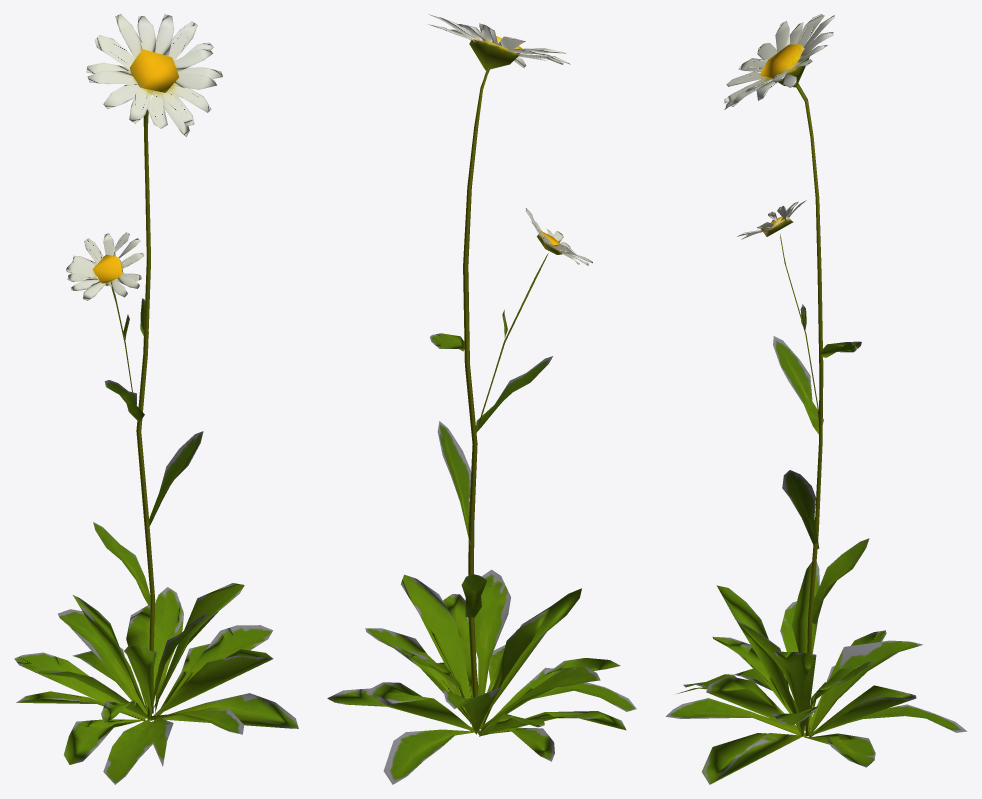
File: OxeyeDaisyClean.glb
3 renders of one model, left to right at view 1: azimuth 30°, elevation 25°; view 2: azimuth 150°, elevation 25°; view 3: azimuth 270°, elevation 25°, orthographic. The views are drawn at different scales.
Parts seen in each view (by area): view 1: geometry_0; view 2: geometry_0; view 3: geometry_0.
Boxes of the visible parts, x1,y1,x2,y2 form: geometry_0: (14,14,298,784); geometry_0: (327,14,636,784); geometry_0: (666,14,967,784).
Size of the model in its own units: 0.1393 by 0.4 by 0.1536.
1 material, 1 textured.
